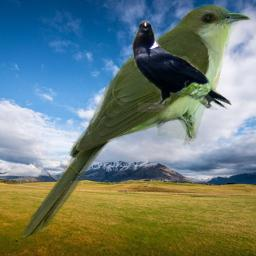Crow: (131, 20, 233, 112)
Cuckoo: (22, 4, 252, 243)
